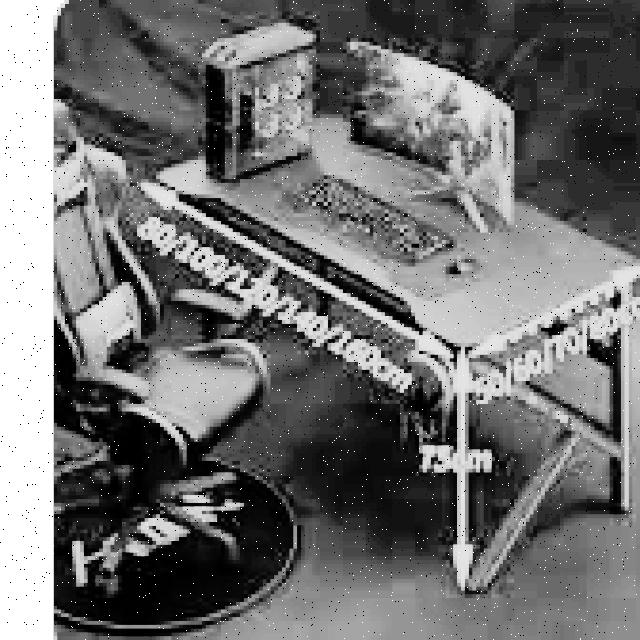book: (46, 94, 292, 576)
table: (141, 107, 640, 590)
